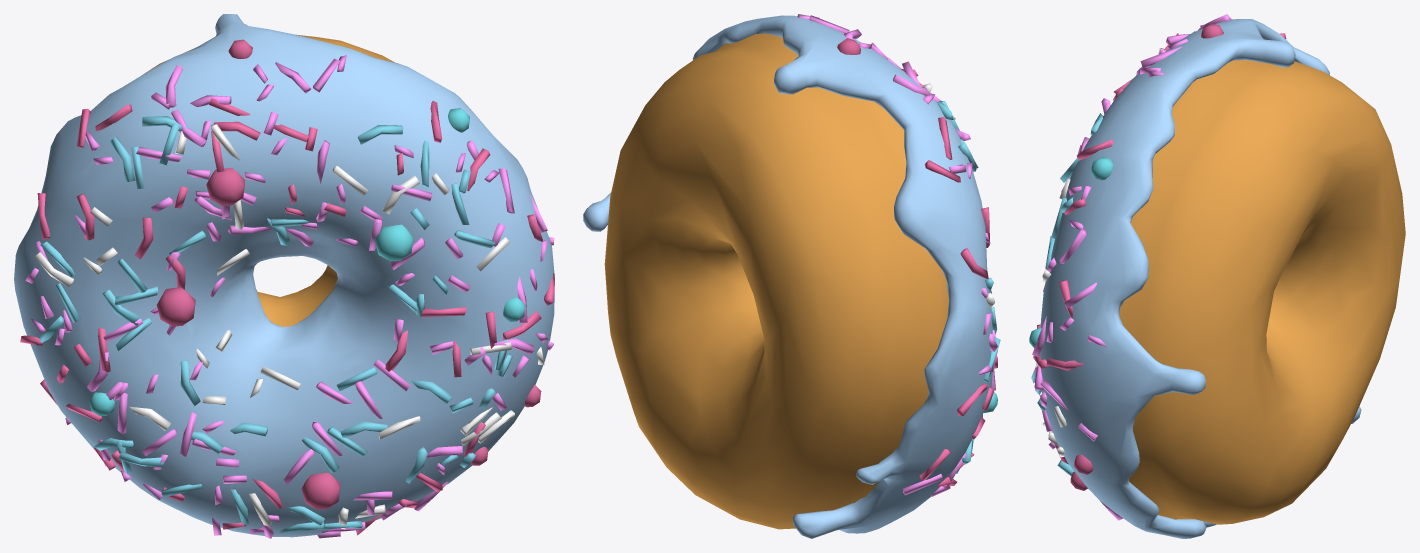
File: blenderguru-donut-tutorial-model.fbx
The picture shows the model from 3 angles, left to right: view 1: azimuth 30°, elevation 25°; view 2: azimuth 150°, elevation 25°; view 3: azimuth 270°, elevation 25°; orthographic projection. The views are drawn at different scales.
Parts seen in each view (by area): view 1: Icing, Donut, Sphere.001, Sphere.003, Sphere.002, Sphere; view 2: Donut, Icing; view 3: Donut, Icing.
Boxes of the visible parts, x1,y1,x2,y2 form: Icing: (14, 14, 554, 538); Donut: (143, 34, 394, 326); Sphere.001: (156, 287, 195, 326); Sphere.003: (301, 472, 340, 509); Sphere.002: (206, 168, 244, 205); Sphere: (374, 224, 413, 261); Donut: (604, 33, 948, 529); Icing: (583, 14, 1000, 538); Donut: (1119, 60, 1405, 524); Icing: (1031, 14, 1361, 538).
Bounding box in the file's own units: 99.98 × 76.34 × 105.
